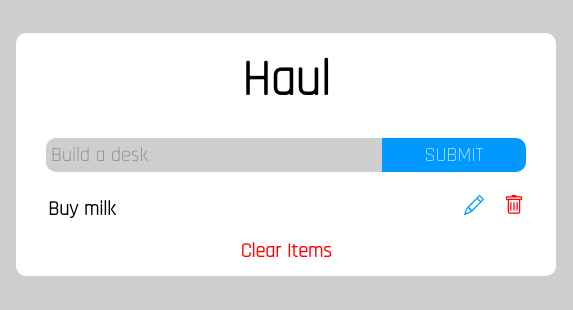
it: HaulPage › behavior › editing an item › should update the item title after confirming the edit
This screenshot has width=573, height=310.
Click the button named "Edit Buy milk": (474, 204) left=464, top=194, right=484, bottom=214
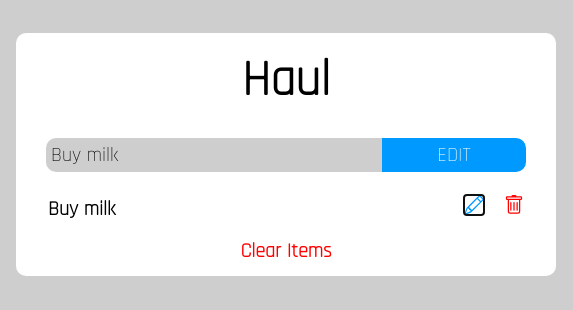
Replace the text in the field named "Grocery item name" with "Buy eggs": (214, 154) left=46, top=138, right=382, bottom=172
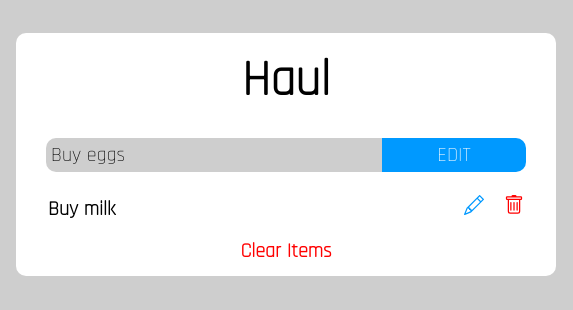
Click the button with aria-label "Edit item": (454, 154) left=382, top=138, right=526, bottom=172
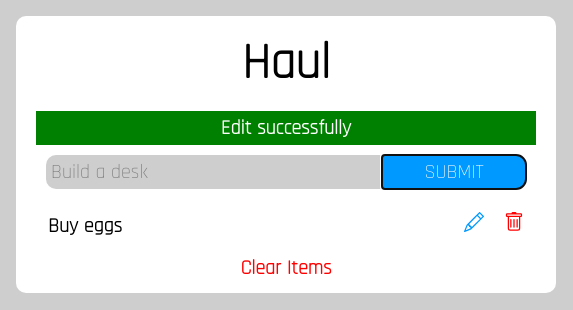
Expected: the heading "Buy eggs" is shown, left=48, top=210, right=122, bottom=240
Expected: the heading "Buy milk" is gone
